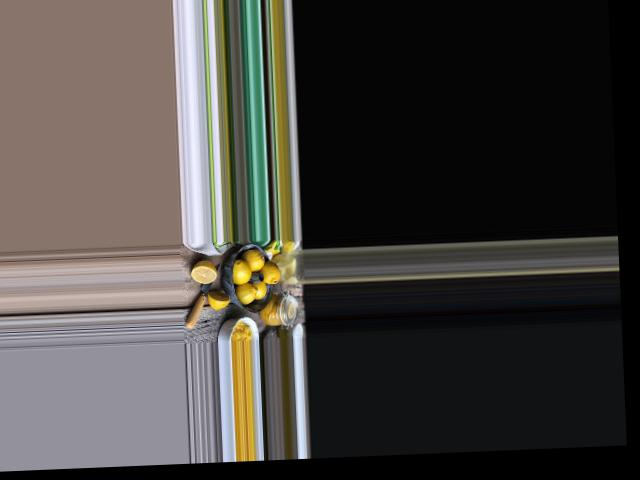lemon: (234, 283, 257, 304)
